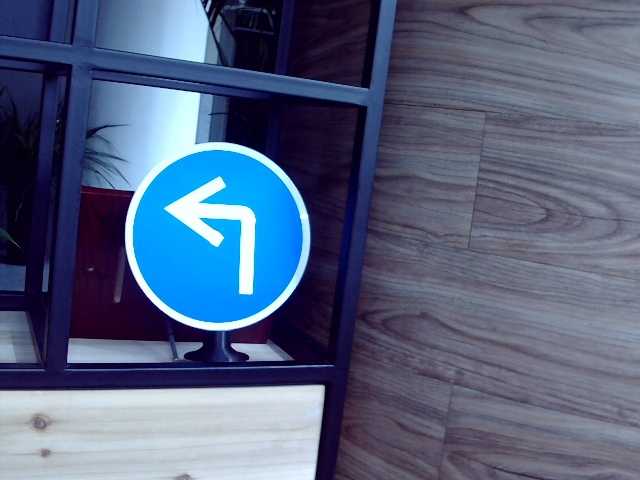turn_left: (167, 174, 260, 299)
